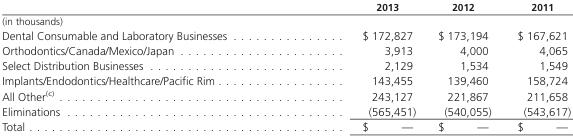table: (1, 1, 570, 133)
table column: (1, 1, 293, 133), (293, 1, 426, 133), (426, 1, 503, 133), (503, 1, 570, 133)
table column header: (1, 1, 570, 27)
table row: (1, 1, 570, 27), (1, 42, 570, 58), (1, 87, 570, 103), (1, 27, 570, 42), (1, 58, 570, 73), (1, 103, 570, 118), (1, 118, 570, 133), (1, 73, 570, 87)
